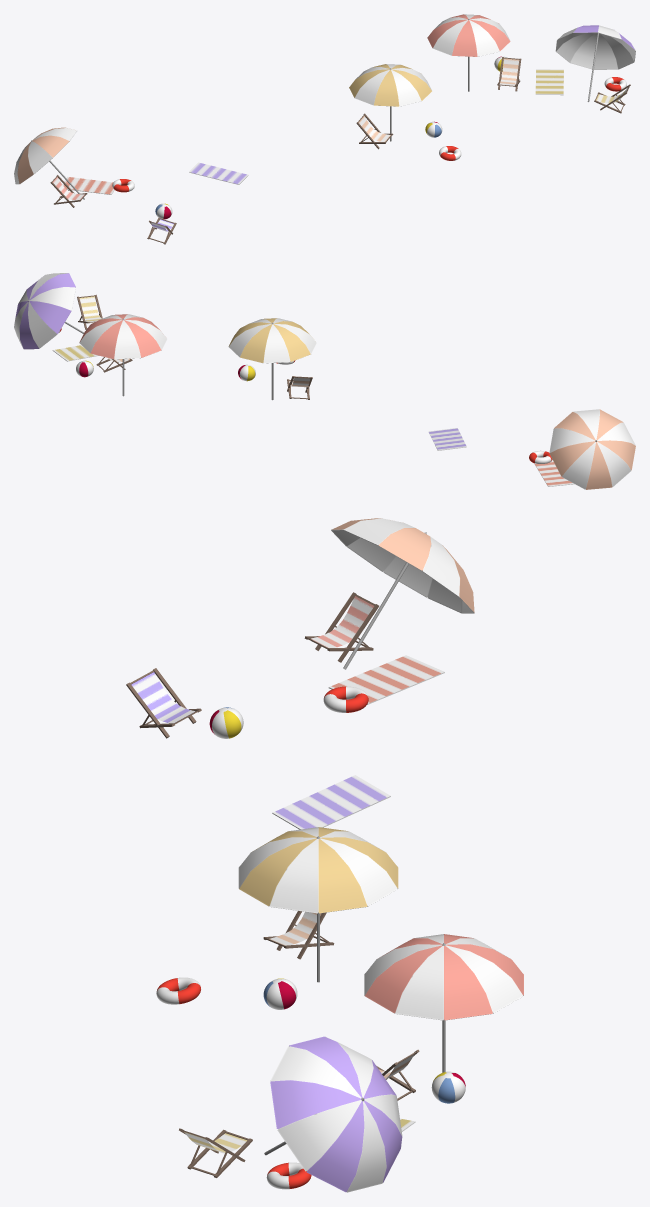
Rendered from umbrella.glb.
3 views of the same model, one above another, from view 1: azimuth 30°, elevation 25°; view 2: azimuth 150°, elevation 25°; view 3: azimuth 270°, elevation 25° (orthographic). The views are drawn at different scales.
Parts seen in each view (by area): view 1: Umbrella_geo_04, Umbrella_geo_03, Umbrella_geo_02, Umbrella_geo_01, Towel_geo_03, Towel_geo_02, Towel_geo_01, Seat_geo; view 2: Umbrella_geo_01, Umbrella_geo_04, Umbrella_geo_03, Umbrella_geo_02, Towel_geo_02, Towel_geo_01, Towel_geo_03, Seat_geo; view 3: Umbrella_geo_04, Umbrella_geo_02, Umbrella_geo_03, Umbrella_geo_01, Towel_geo_02, Seat_geo (×2), Towel_geo_01, Life_Ring_geo_01, Life_Ring_geo_02, Life_Ring_geo_03.
Part boxes in pixels (x1=…): Umbrella_geo_04: x1=555, y1=25, x2=635, y2=101; Umbrella_geo_03: x1=427, y1=14, x2=510, y2=91; Umbrella_geo_02: x1=349, y1=64, x2=431, y2=141; Umbrella_geo_01: x1=14, y1=127, x2=84, y2=199; Towel_geo_03: x1=535, y1=69, x2=563, y2=95; Towel_geo_02: x1=189, y1=162, x2=248, y2=184; Towel_geo_01: x1=62, y1=176, x2=114, y2=194; Seat_geo: x1=499, y1=58, x2=518, y2=85; Umbrella_geo_01: x1=549, y1=409, x2=635, y2=489; Umbrella_geo_04: x1=14, y1=273, x2=83, y2=349; Umbrella_geo_03: x1=79, y1=314, x2=167, y2=396; Umbrella_geo_02: x1=228, y1=318, x2=316, y2=400; Towel_geo_02: x1=428, y1=428, x2=466, y2=450; Towel_geo_01: x1=534, y1=461, x2=574, y2=486; Towel_geo_03: x1=52, y1=345, x2=98, y2=361; Seat_geo: x1=79, y1=296, x2=101, y2=321; Umbrella_geo_04: x1=264, y1=1036, x2=402, y2=1192; Umbrella_geo_02: x1=238, y1=827, x2=398, y2=982; Umbrella_geo_03: x1=364, y1=934, x2=523, y2=1072; Umbrella_geo_01: x1=331, y1=518, x2=474, y2=669; Towel_geo_02: x1=272, y1=775, x2=390, y2=829; Seat_geo (×2): x1=131, y1=596, x2=374, y2=723; Towel_geo_01: x1=328, y1=655, x2=444, y2=704; Life_Ring_geo_01: x1=323, y1=686, x2=368, y2=712; Life_Ring_geo_02: x1=156, y1=977, x2=200, y2=1004; Life_Ring_geo_03: x1=266, y1=1162, x2=311, y2=1189.
Size of the model in its own units: 21.67 by 2.77 by 6.26.
23 materials, 23 textured.
